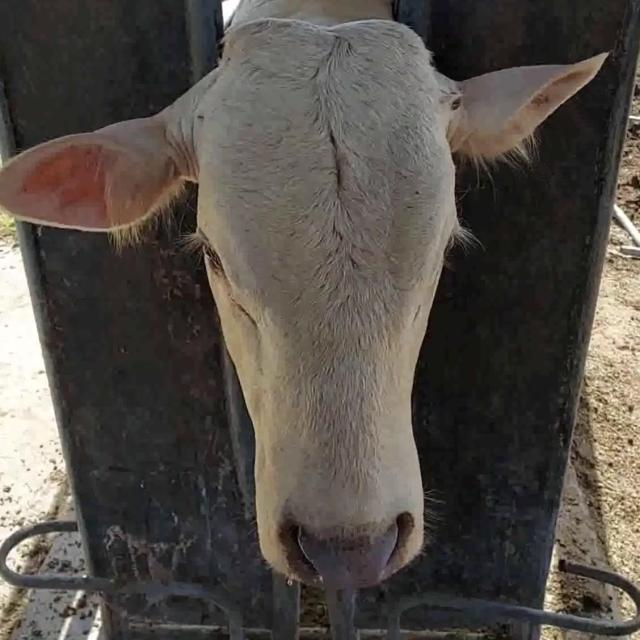cowFace: (198, 22, 462, 588)
